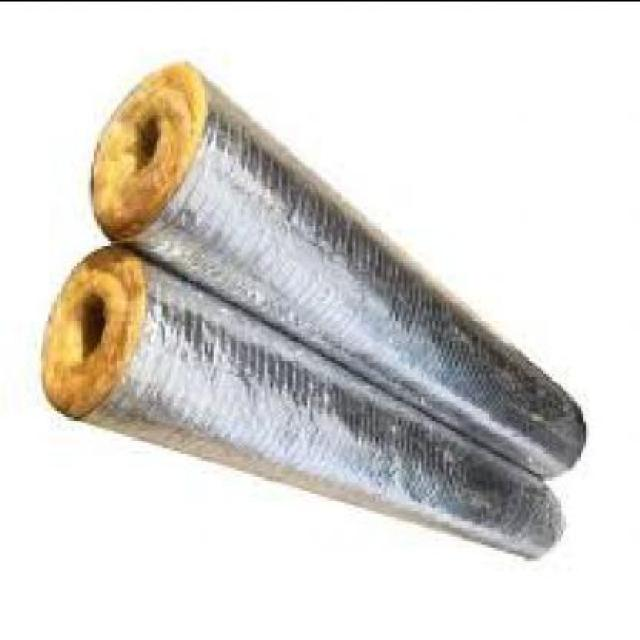METAL: (136, 57, 592, 475), (86, 244, 568, 556)
